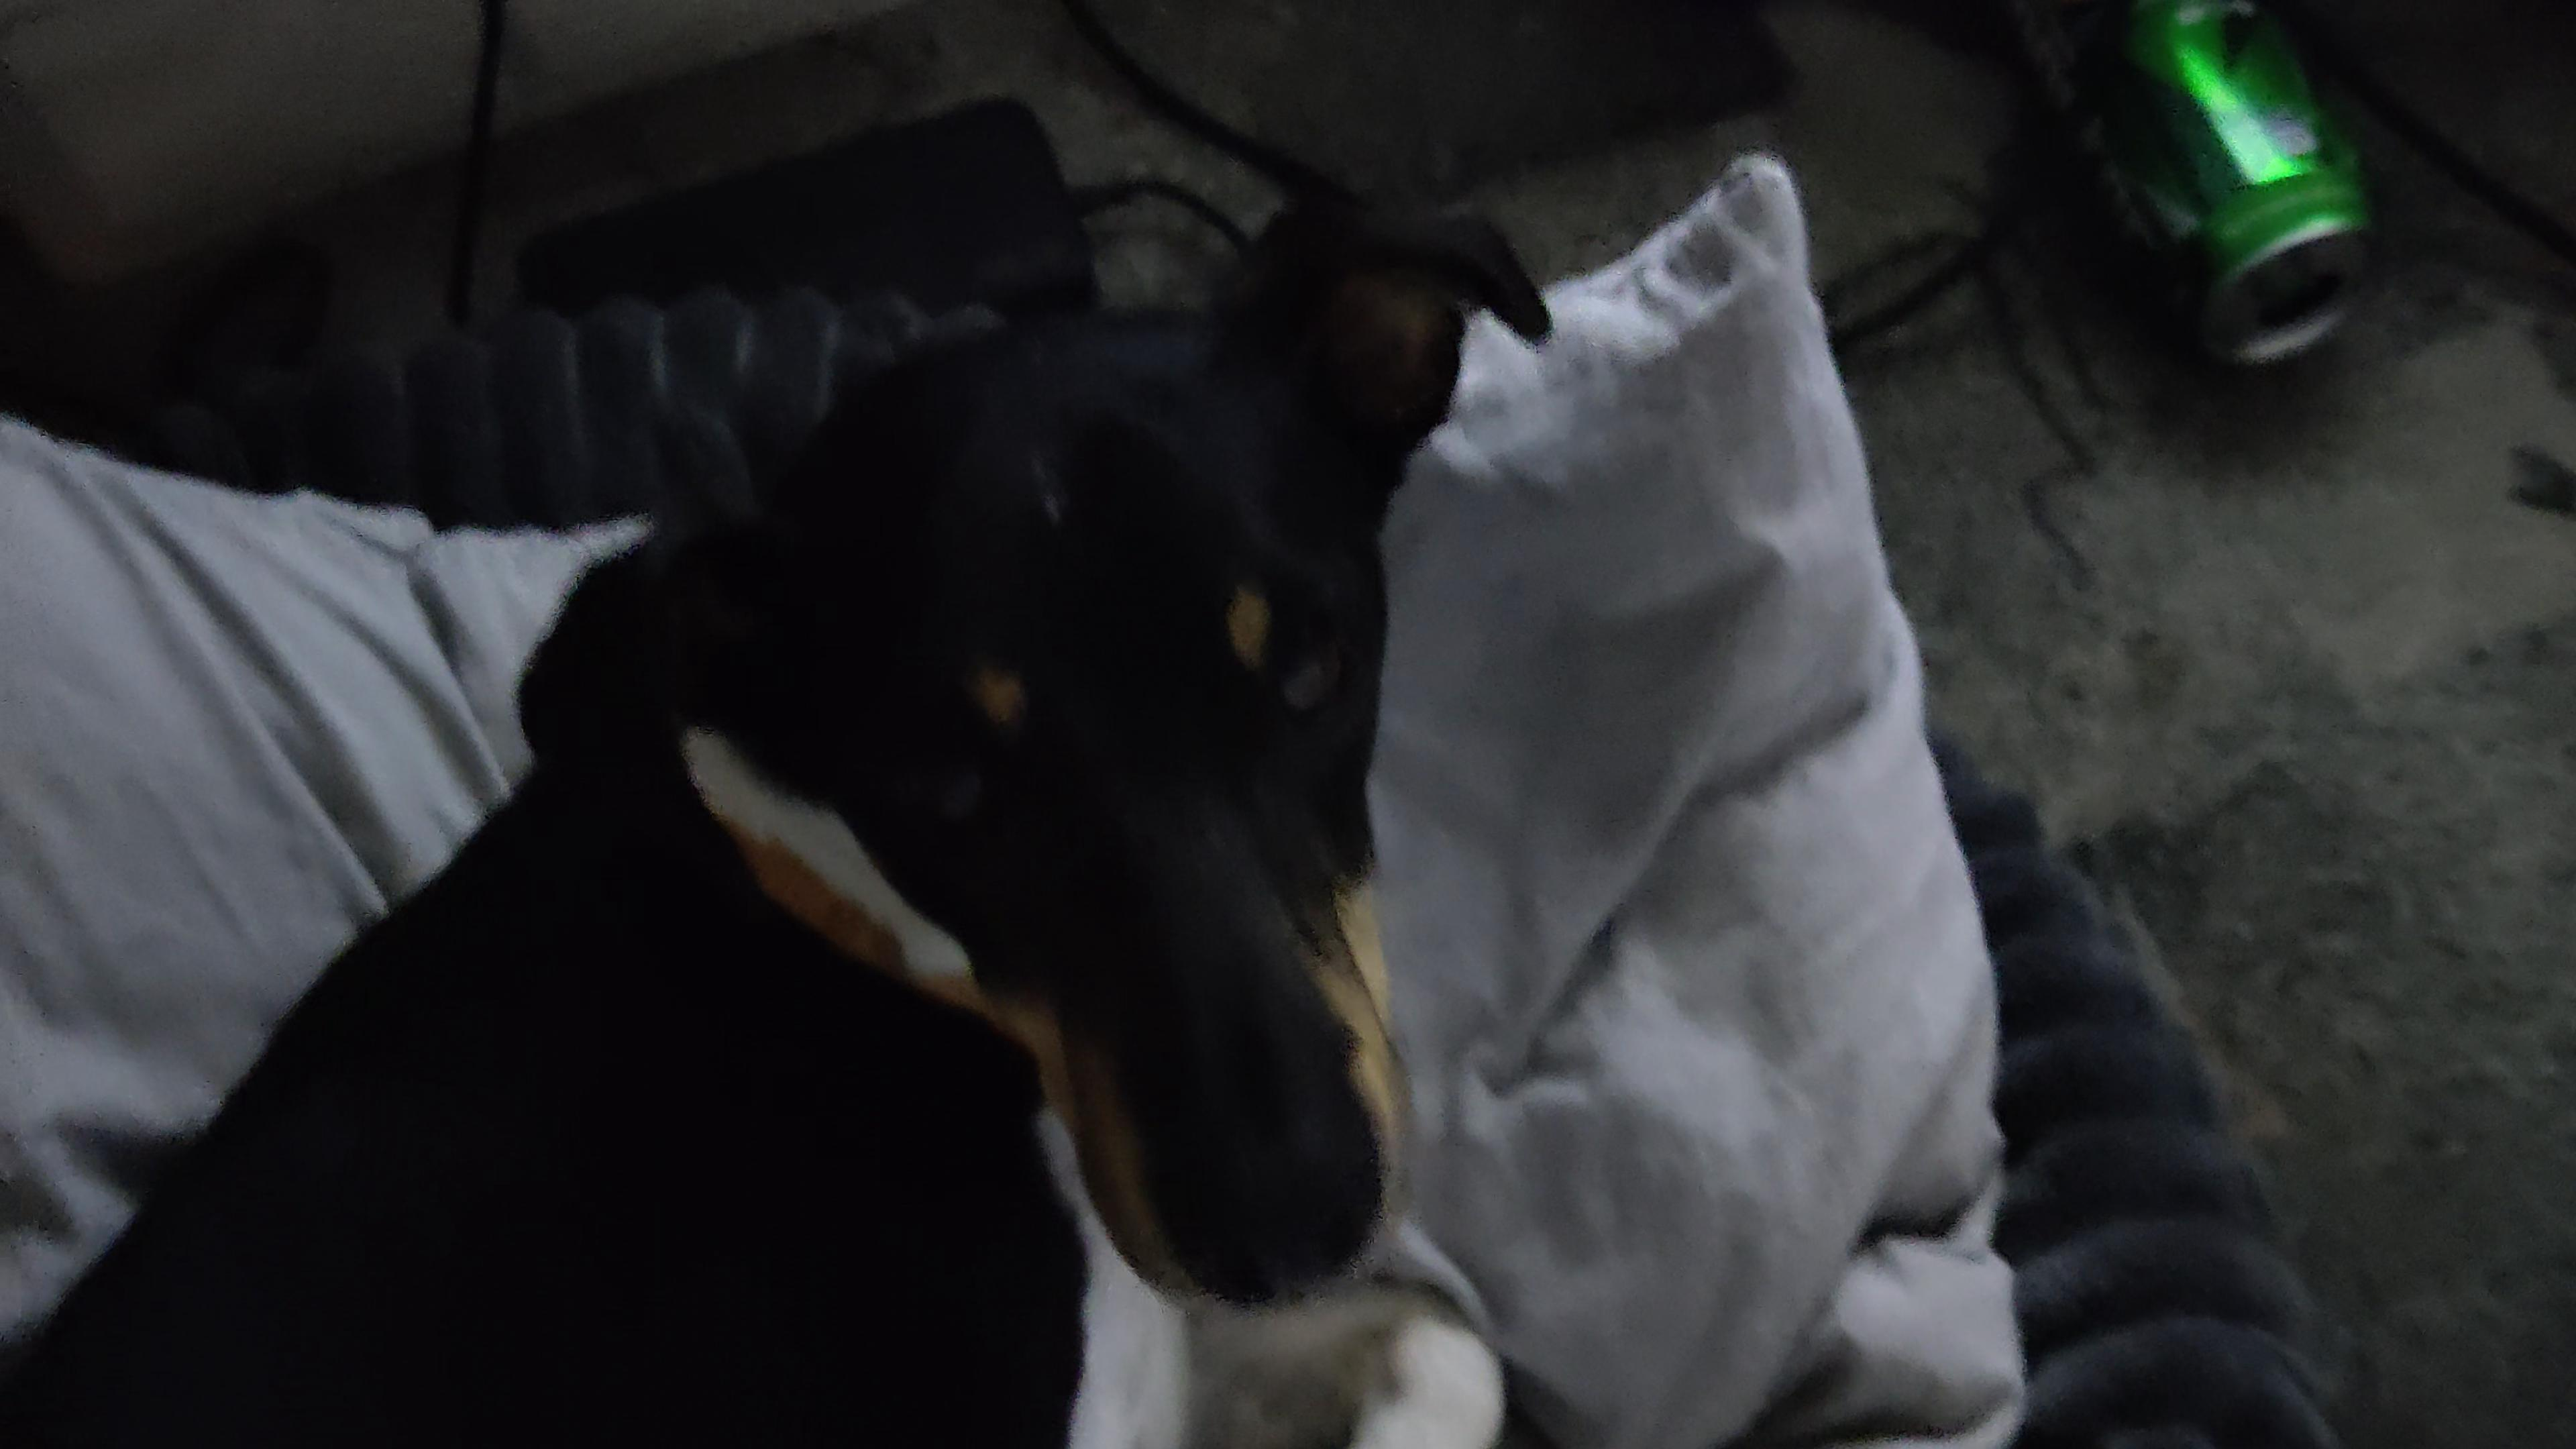Dog: (0, 161, 1583, 1449)
